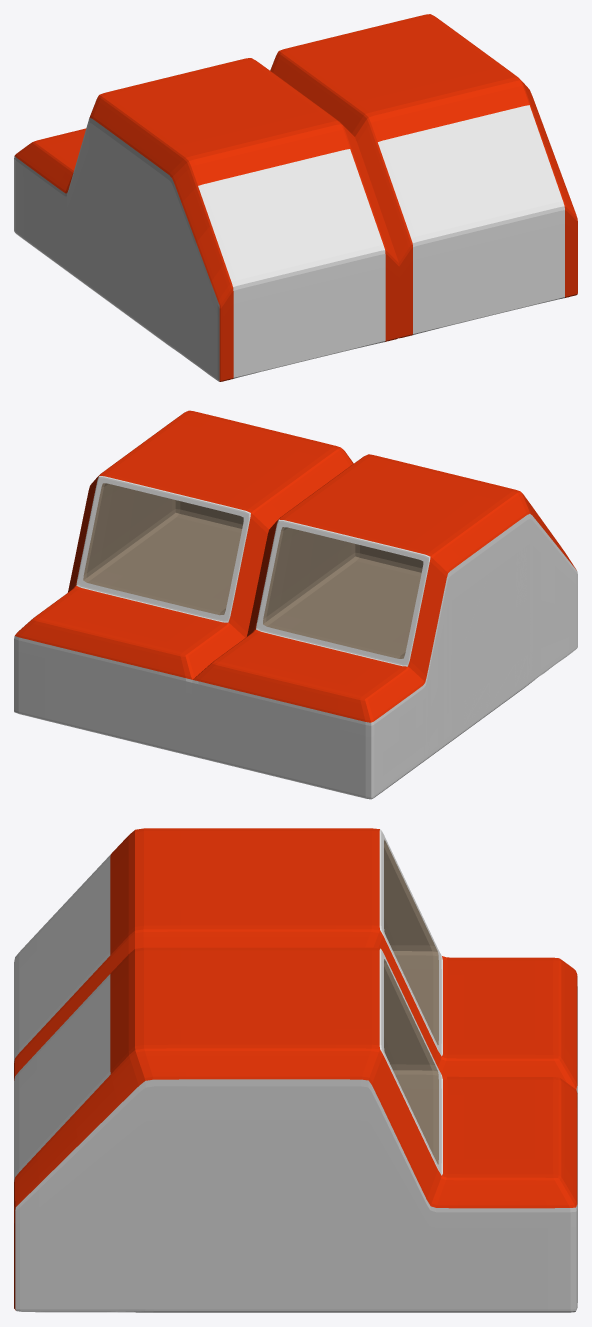
Rendered from Source.fbx.
The picture shows the model from 3 angles, top to bottom: view 1: azimuth 30°, elevation 25°; view 2: azimuth 150°, elevation 25°; view 3: azimuth 270°, elevation 25°; orthographic projection. The views are drawn at different scales.
Parts seen in each view (by area): view 1: Cube.024; view 2: Cube.024; view 3: Cube.024.
Boxes of the visible parts, bbox=[...] form: Cube.024: bbox=[14, 14, 577, 381]; Cube.024: bbox=[14, 410, 577, 799]; Cube.024: bbox=[14, 828, 577, 1312].
Bounding box in the file's own units: 200 × 200 × 101.
